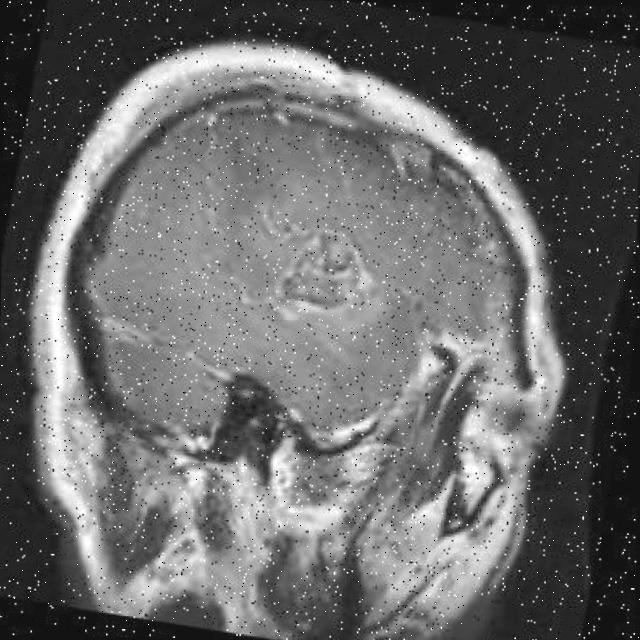LMCI: (307, 208, 389, 282)
